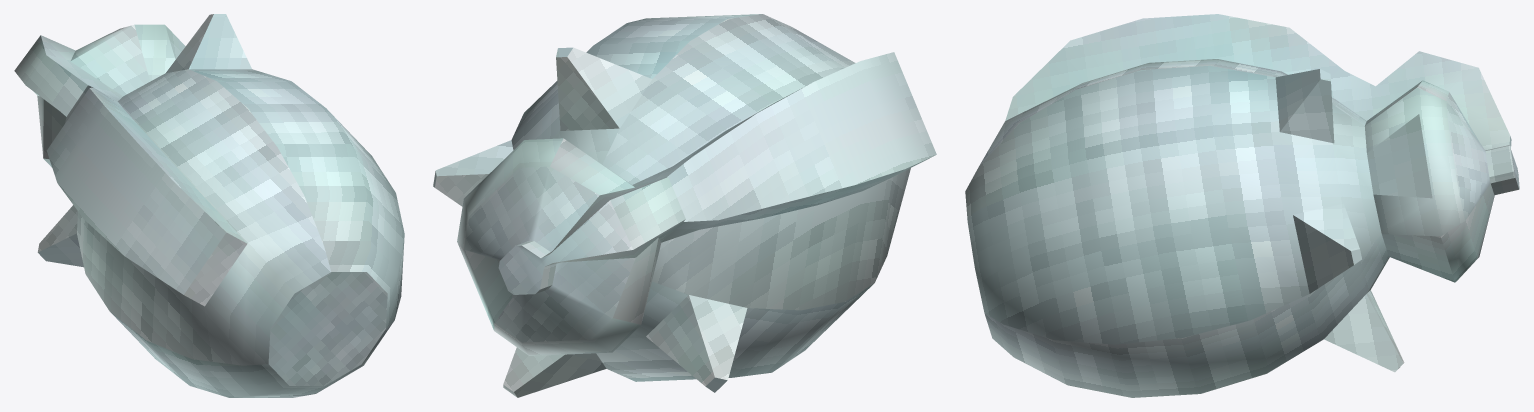
The model's file is grenade.fbx.
3 renders of one model, left to right at view 1: azimuth 30°, elevation 25°; view 2: azimuth 150°, elevation 25°; view 3: azimuth 270°, elevation 25°, orthographic. The views are drawn at different scales.
Visible parts, largest first — view 1: grenade; view 2: grenade; view 3: grenade.
Part boxes in pixels (left/top/right/bottom): grenade: left=14, top=14, right=404, bottom=397; grenade: left=433, top=14, right=936, bottom=397; grenade: left=965, top=14, right=1519, bottom=397.
Size of the model in its own units: 0.5297 by 0.5109 by 0.7575.
